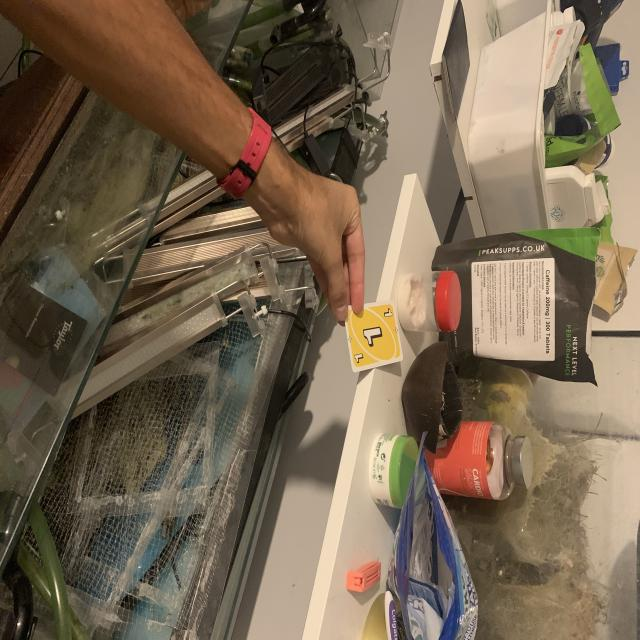lyellow-1: (380, 306, 394, 321)
